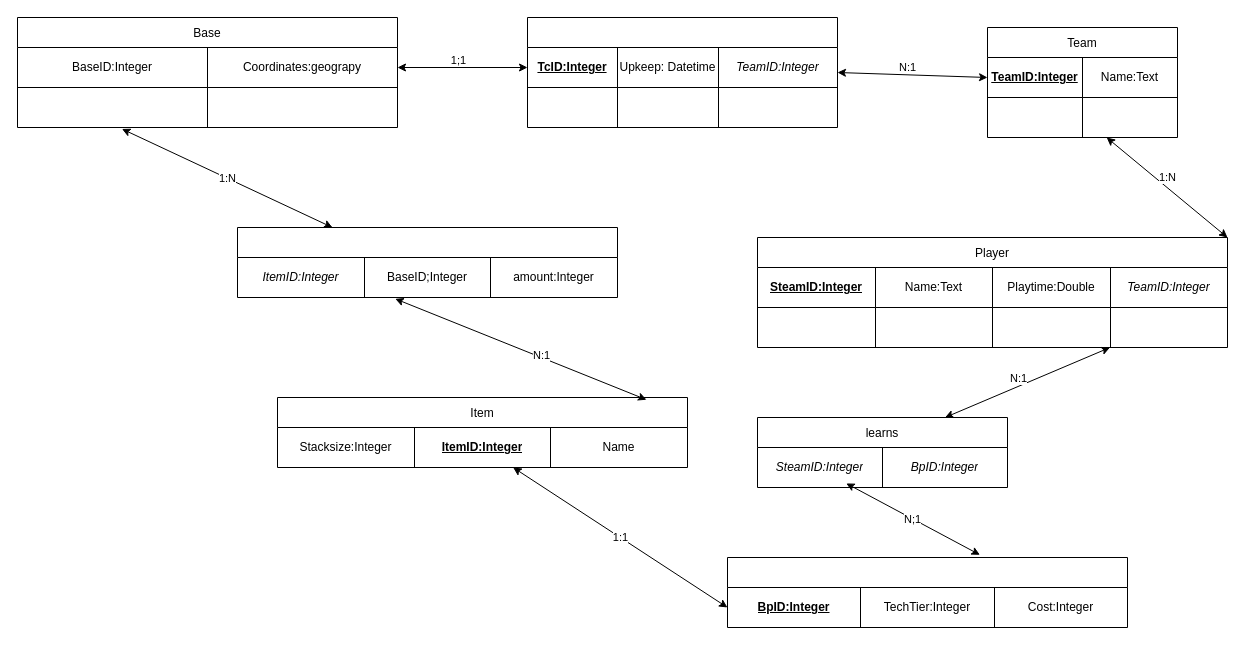
Some shapes in this 1254 by 645 pixel diagram are drawn without their labels. Each missing label, with the box of its shape:
Blueprint: (726, 556, 1128, 628)
Stores: (236, 226, 618, 298)
Tool Cupboard: (526, 16, 838, 128)
